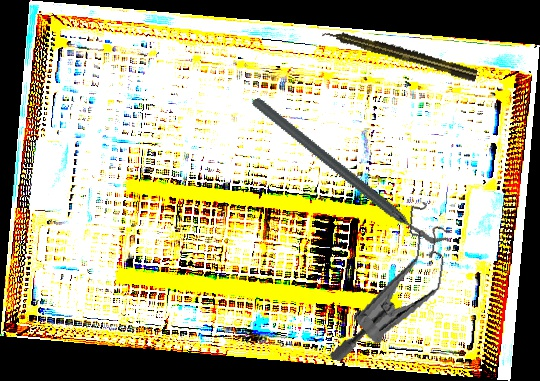Chopper: (250, 50, 450, 293)
Handpiece: (320, 24, 479, 84)
Speculum: (327, 190, 457, 376)
